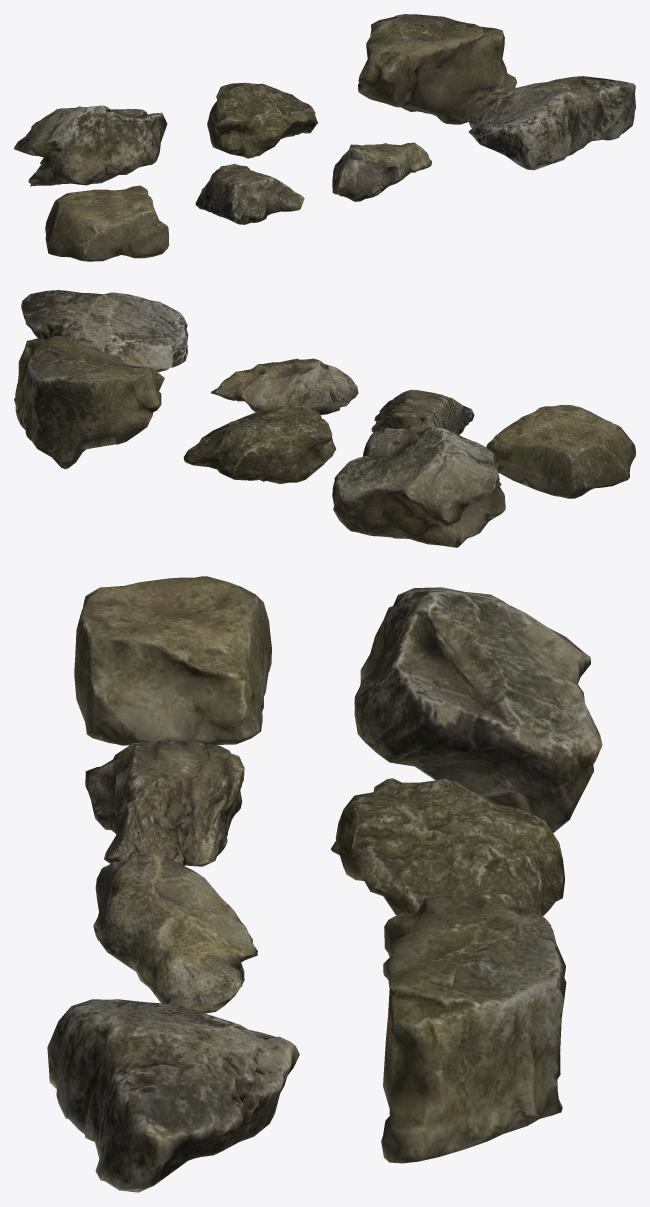
File: rock_moss_set_02.glb
The picture shows the model from 3 angles, top to bottom: view 1: azimuth 30°, elevation 25°; view 2: azimuth 150°, elevation 25°; view 3: azimuth 270°, elevation 25°; orthographic projection. The views are drawn at different scales.
Visible parts, largest first — view 1: rock_moss_set_02_rock13, rock_moss_set_02_rock10, rock_moss_set_02_rock11, rock_moss_set_02_rock07, rock_moss_set_02_rock12, rock_moss_set_02_rock08, rock_moss_set_02_rock09; view 2: rock_moss_set_02_rock11, rock_moss_set_02_rock13, rock_moss_set_02_rock07, rock_moss_set_02_rock10, rock_moss_set_02_rock12, rock_moss_set_02_rock09, rock_moss_set_02_rock08; view 3: rock_moss_set_02_rock13, rock_moss_set_02_rock11, rock_moss_set_02_rock10, rock_moss_set_02_rock07, rock_moss_set_02_rock12, rock_moss_set_02_rock09, rock_moss_set_02_rock08.
Part boxes in pixels (x1,y1,x2,y2): rock_moss_set_02_rock13: (358, 14, 516, 124); rock_moss_set_02_rock10: (468, 76, 635, 170); rock_moss_set_02_rock11: (14, 105, 167, 186); rock_moss_set_02_rock07: (45, 185, 169, 261); rock_moss_set_02_rock12: (207, 82, 317, 158); rock_moss_set_02_rock08: (195, 163, 304, 224); rock_moss_set_02_rock09: (332, 142, 431, 201); rock_moss_set_02_rock11: (332, 426, 505, 547); rock_moss_set_02_rock13: (14, 336, 164, 469); rock_moss_set_02_rock07: (486, 405, 635, 498); rock_moss_set_02_rock10: (21, 290, 188, 372); rock_moss_set_02_rock12: (183, 405, 335, 483); rock_moss_set_02_rock09: (210, 358, 358, 415); rock_moss_set_02_rock08: (371, 389, 474, 434); rock_moss_set_02_rock13: (381, 894, 566, 1163); rock_moss_set_02_rock11: (354, 587, 602, 832); rock_moss_set_02_rock10: (47, 999, 299, 1192); rock_moss_set_02_rock07: (74, 576, 271, 745); rock_moss_set_02_rock12: (331, 778, 564, 925); rock_moss_set_02_rock09: (93, 851, 257, 1013); rock_moss_set_02_rock08: (85, 740, 244, 866).
Bounding box in the file's own units: 8.28 × 1.37 × 3.41.
1 material, 1 textured.
